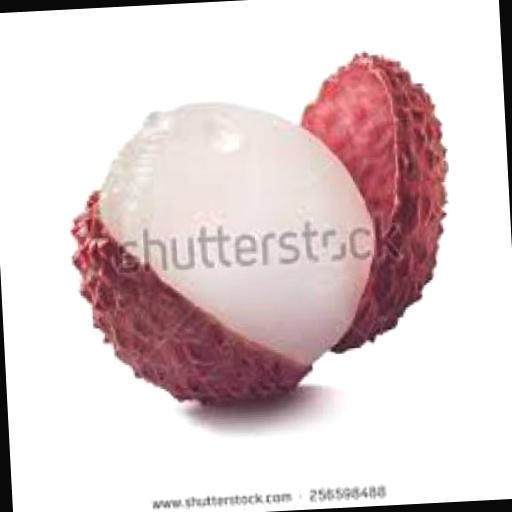biodegradable: (62, 49, 458, 410), (68, 94, 379, 410), (294, 48, 444, 356)
